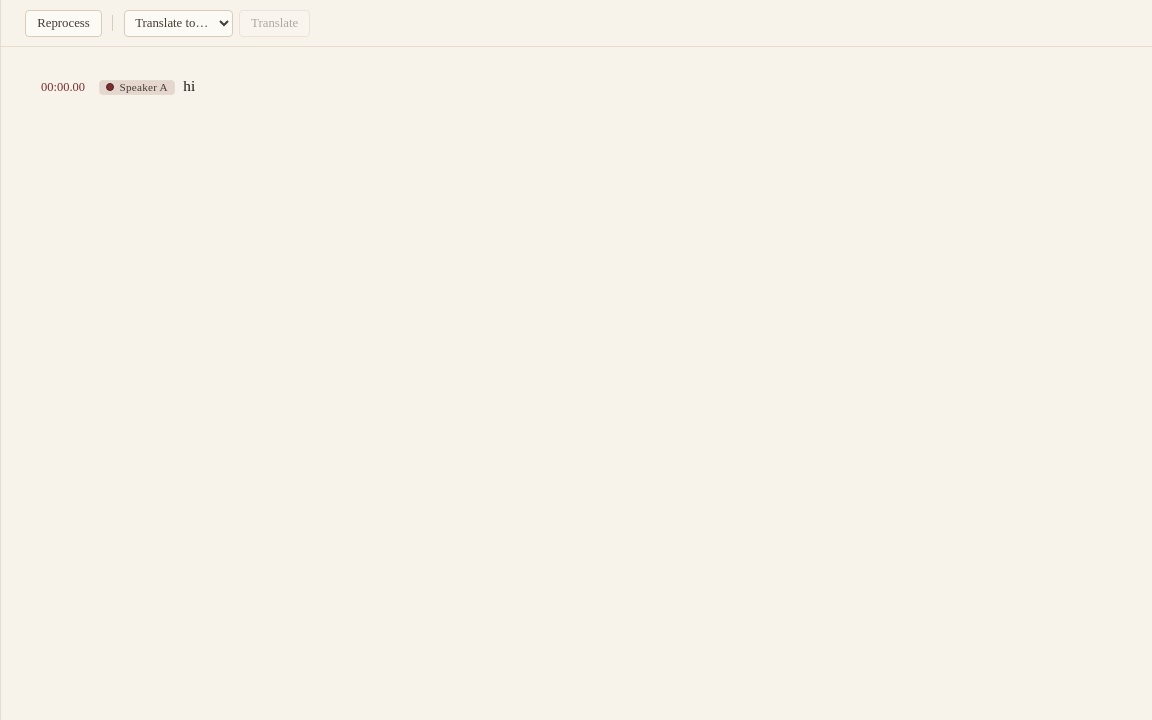
Test: TranscriptPane speaker chip (Phase 6) › renames a speaker via the chip, writing through the meetings seam
Click the button "Speaker A" at coordinates (137, 87), box [99,80,175,95]
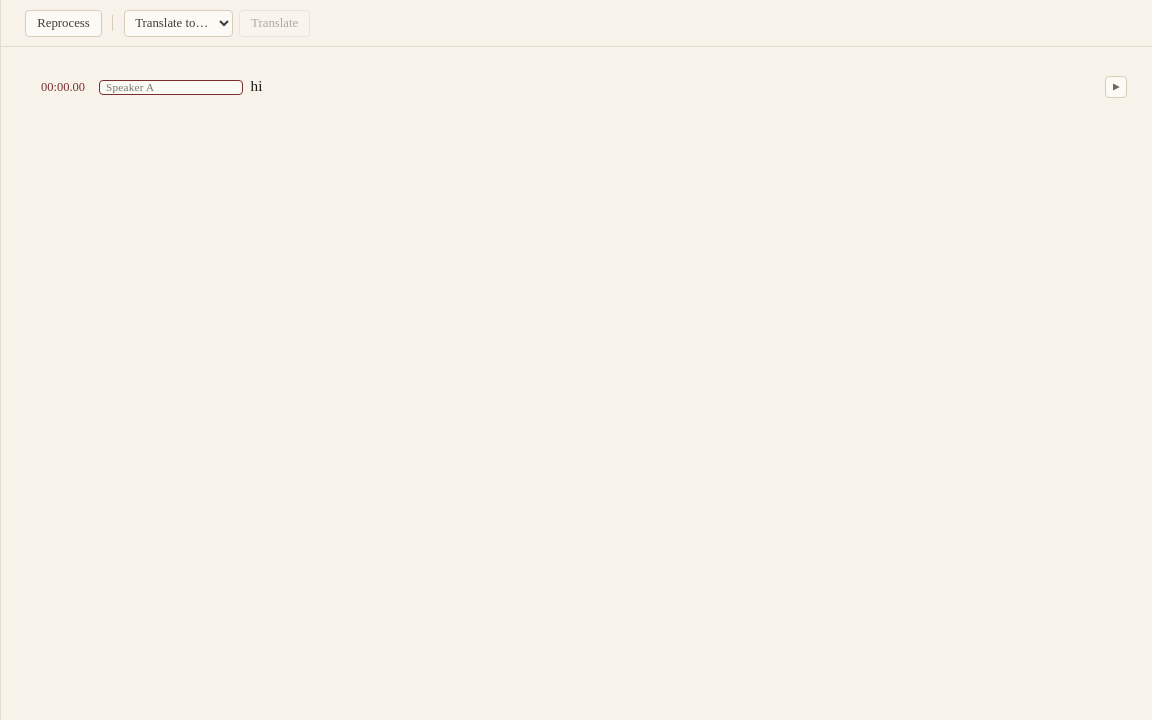
Type "Alice" into the field named "Name for speaker A" at coordinates (171, 87), box [99,80,243,95]
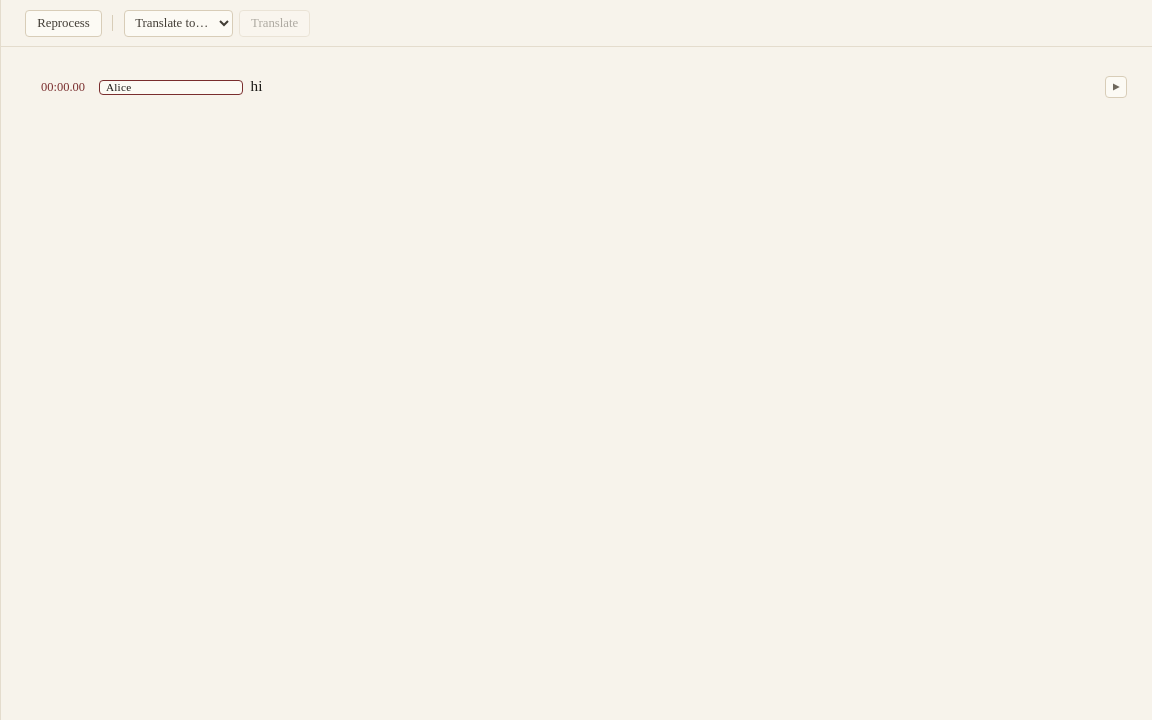
Press Enter in the field named "Name for speaker A", box [99,80,243,95]
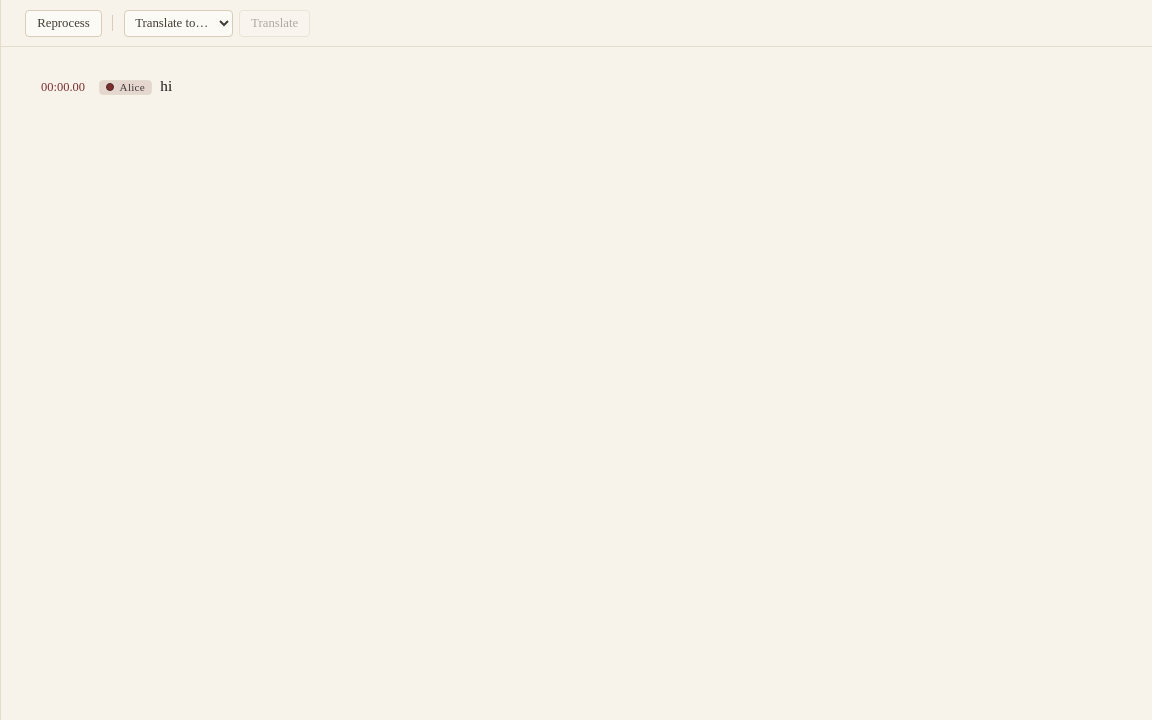
Check: the button "Alice" is shown, box [99,80,152,95]
